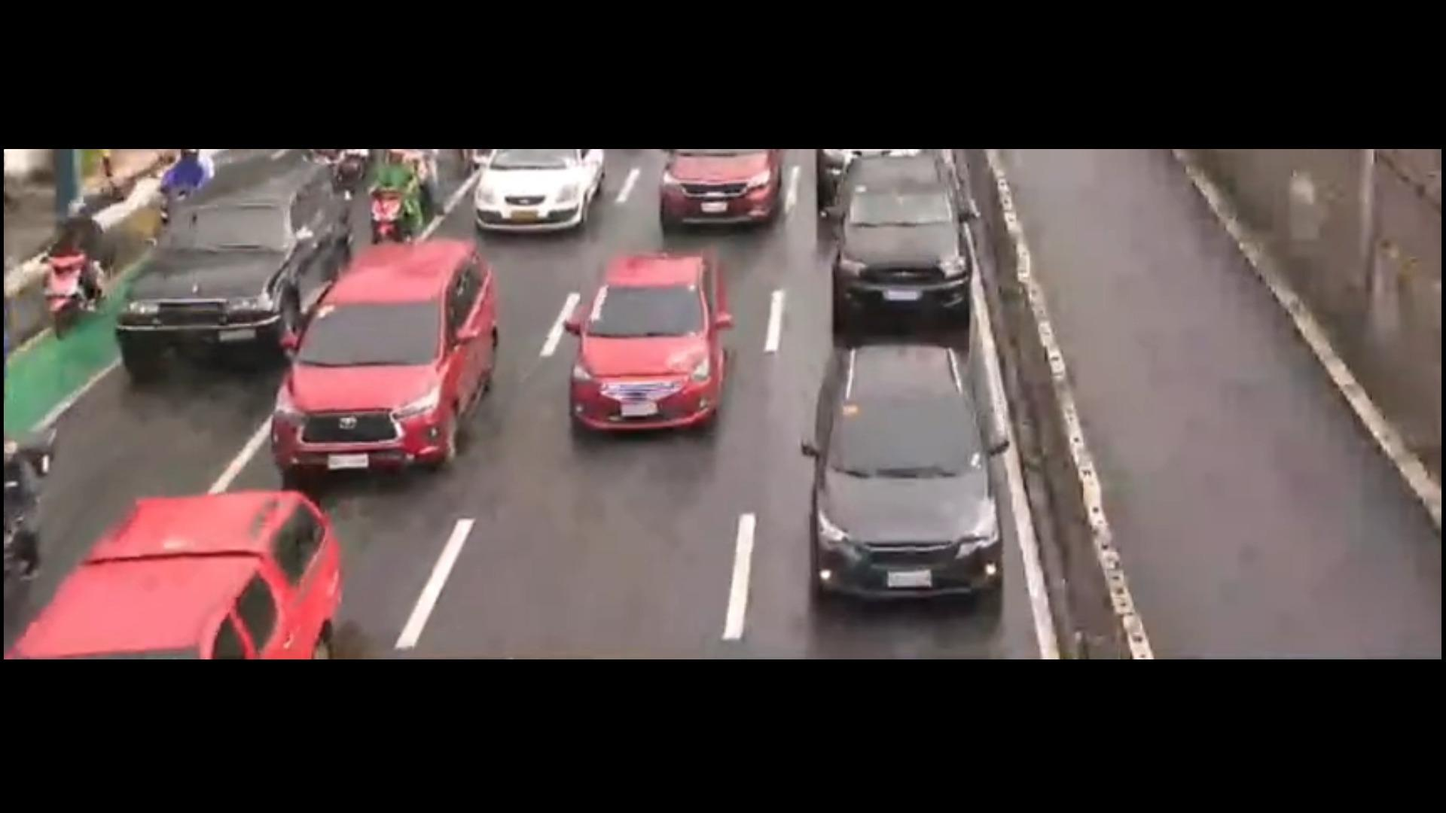Motorcycle: (0, 424, 63, 590), (51, 194, 119, 327), (149, 149, 223, 227), (372, 153, 422, 261)
SUV: (780, 325, 1031, 658), (0, 465, 369, 660), (262, 234, 507, 494), (104, 164, 364, 382), (810, 142, 987, 330), (639, 145, 796, 222)
Sedan: (554, 235, 743, 470), (456, 149, 619, 232)
